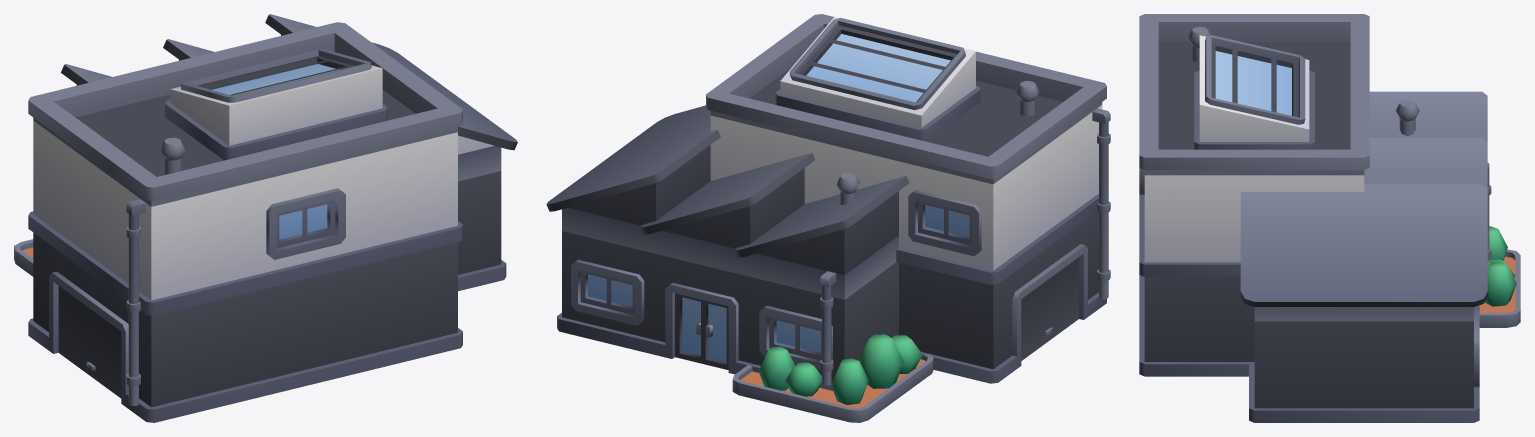
File: building-t_lev1.glb
The picture shows the model from 3 angles, left to right: view 1: azimuth 30°, elevation 25°; view 2: azimuth 150°, elevation 25°; view 3: azimuth 270°, elevation 25°; orthographic projection. The views are drawn at different scales.
Visible parts, largest first — view 1: building-t_lev1; view 2: building-t_lev1; view 3: building-t_lev1.
Boxes of the visible parts, x1,y1,x2,y2 form: building-t_lev1: (14, 14, 517, 422); building-t_lev1: (546, 14, 1110, 422); building-t_lev1: (1139, 14, 1520, 422).
Bounding box in the file's own units: 14.64 × 8.63 × 11.82.
1 material, 1 textured.
